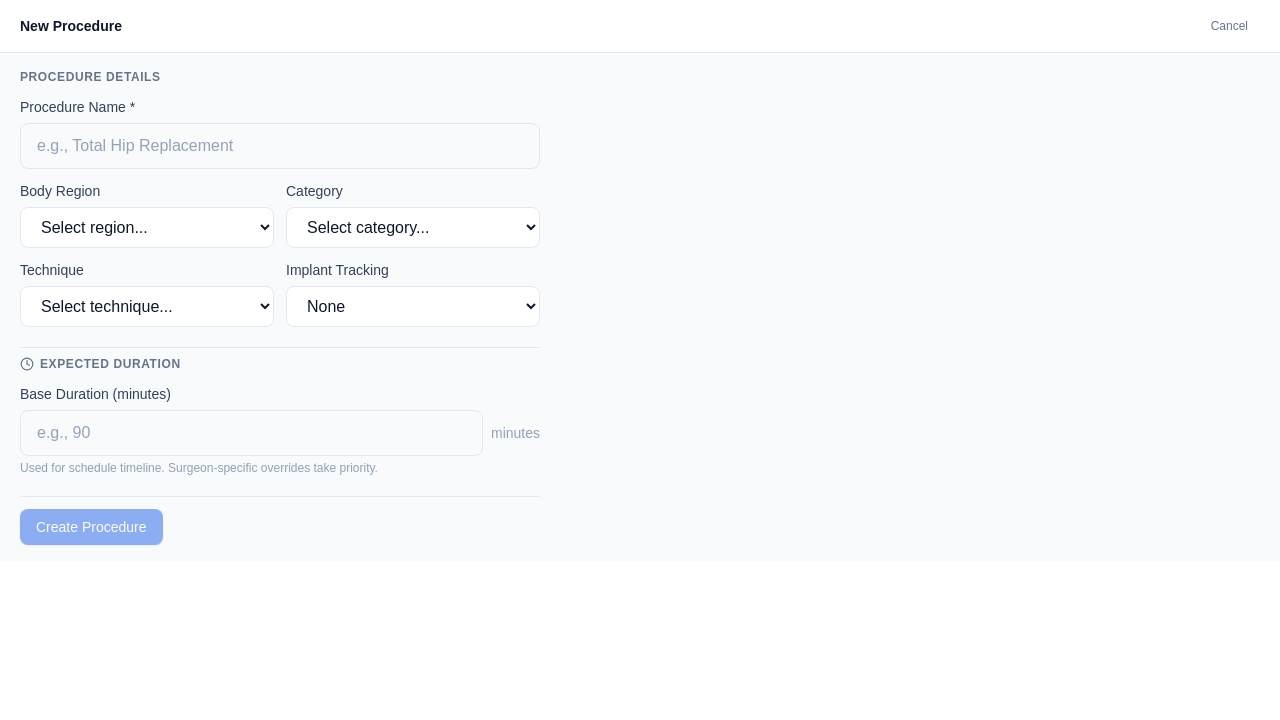
Test: ProcedureDetailPanel › Create Procedure button is always enabled when name is non-empty in add mode
Type "New Procedure Name" into the field with placeholder "e.g., Total Hip Replacement".
click(280, 146); type("New Procedure Name")  # box [20,123,540,169]
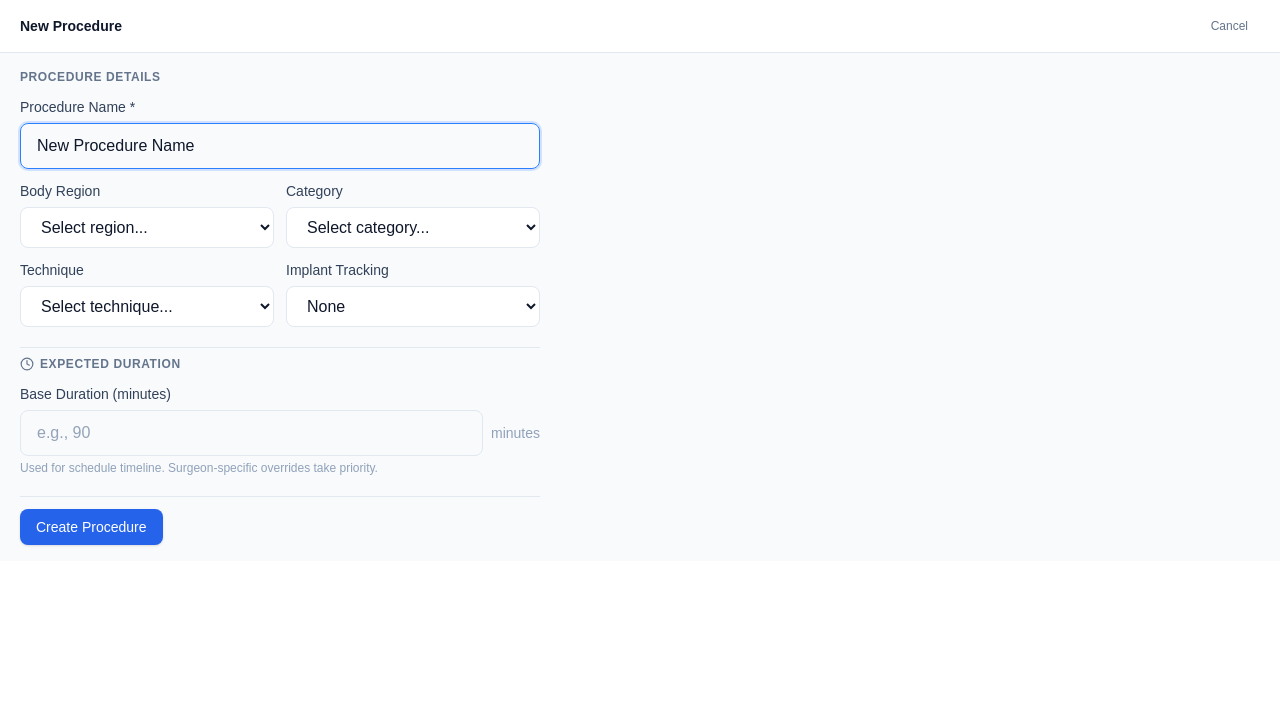
Expected: the button "Create Procedure" is enabled, [20,509,162,545]
